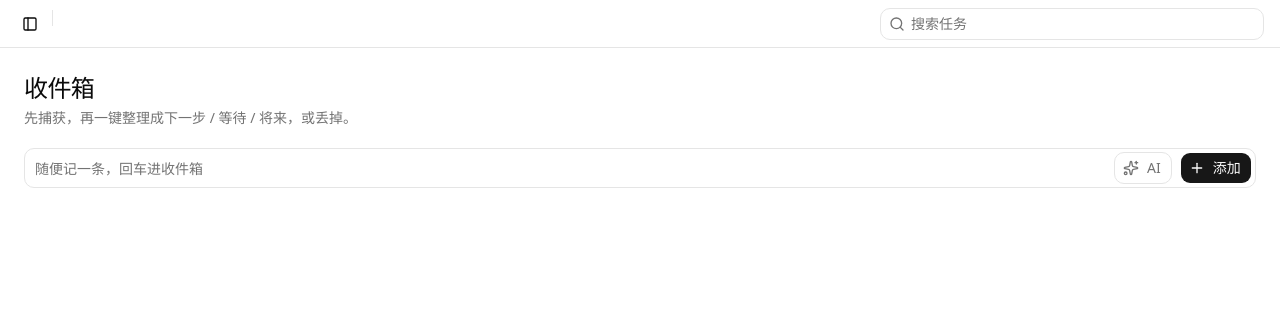
it: creating tasks while /api/projects is pending (#101) › 收件箱: POST has no projectId; server puts it in the inbox; it shows in the inbox list
Type "冷启动收件箱任务" into the field with placeholder "随便记一条，回车进收件箱" at (570, 168), box [25,152,1114,184]
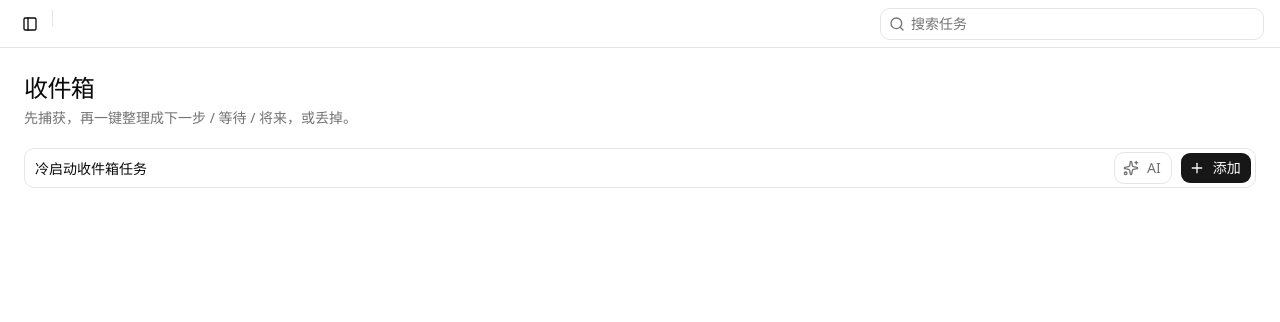
Submit the form with placeholder "随便记一条，回车进收件箱", box [24,148,1256,188]
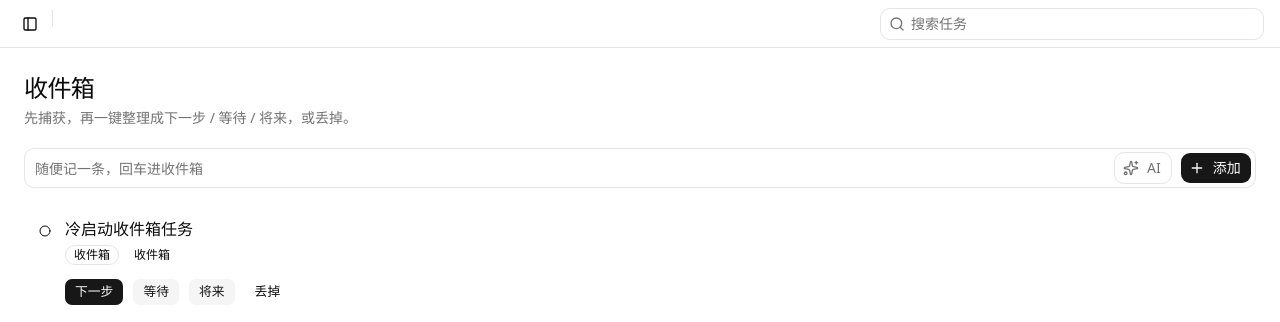
Now the text "冷启动收件箱任务" is shown, box [65,217,193,241]
